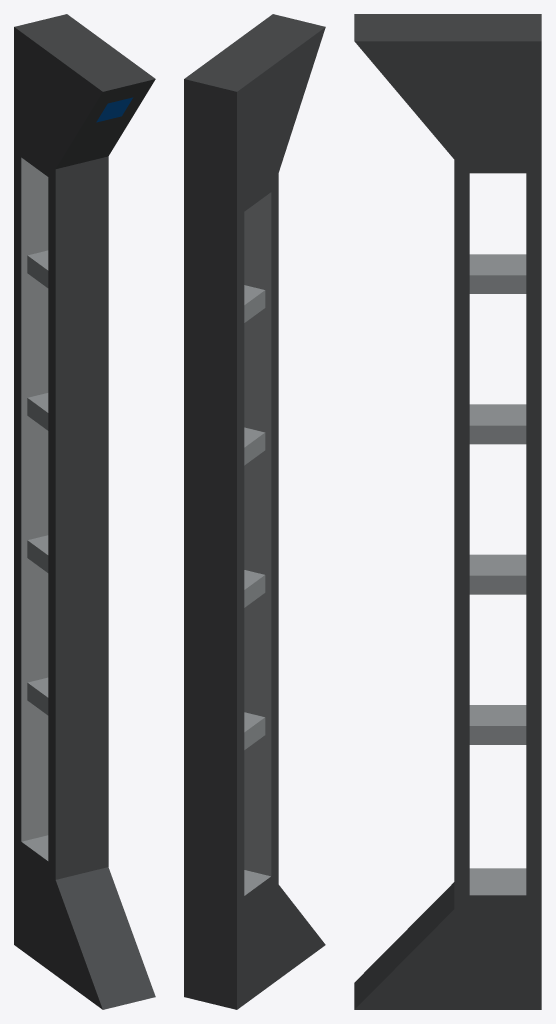
The model's file is Column_004.fbx.
3 renders of one model, left to right at view 1: azimuth 30°, elevation 25°; view 2: azimuth 150°, elevation 25°; view 3: azimuth 270°, elevation 25°, orthographic. The views are drawn at different scales.
Parts seen in each view (by area): view 1: Column_004; view 2: Column_004; view 3: Column_004.
Boxes of the visible parts, x1,y1,x2,y2 form: Column_004: (14,14,155,1009); Column_004: (184,14,325,1009); Column_004: (354,14,541,1009).
Size of the model in its own units: 23.21 by 67.49 by 385.
